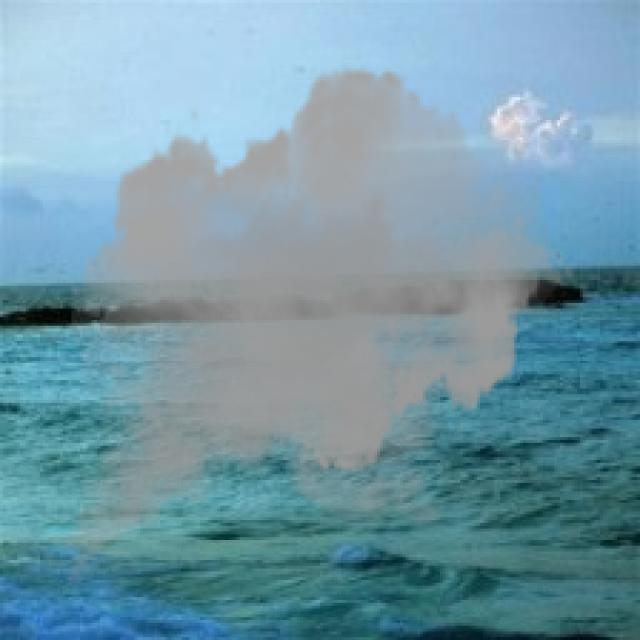smoke: (52, 52, 577, 617)
